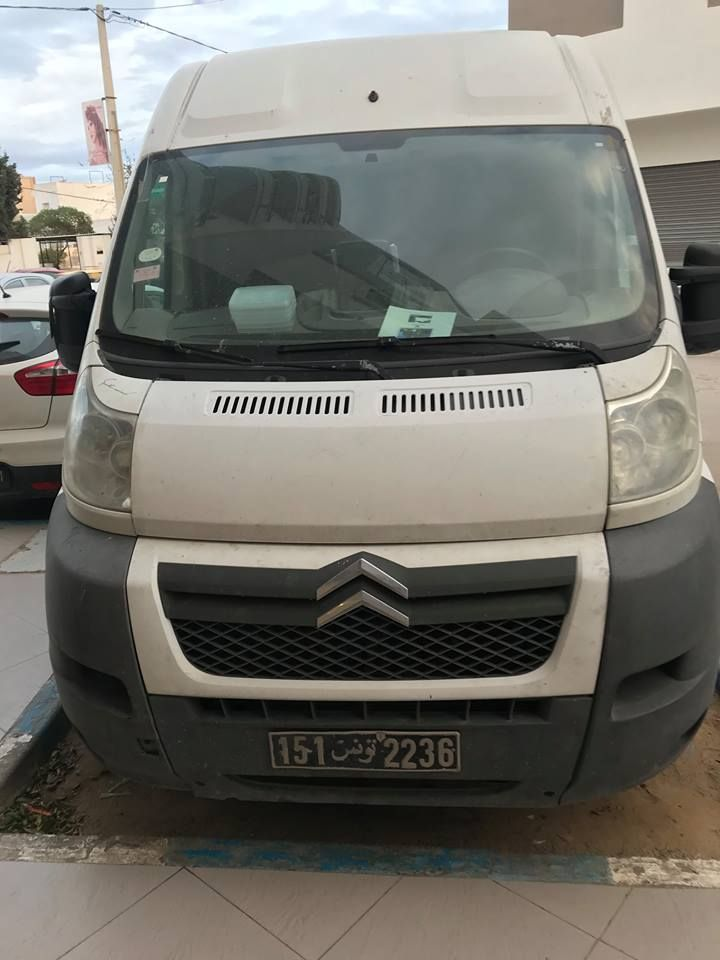LP: (267, 727, 461, 775)
